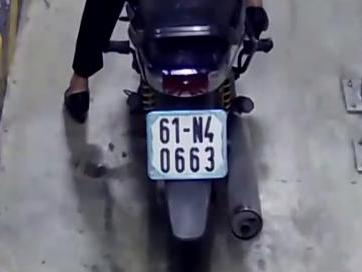num_plate: (146, 109, 228, 182)
